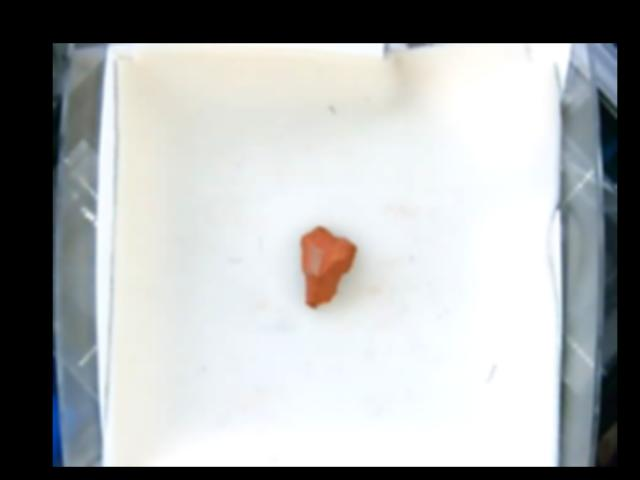Brisk: (300, 225, 360, 308)
